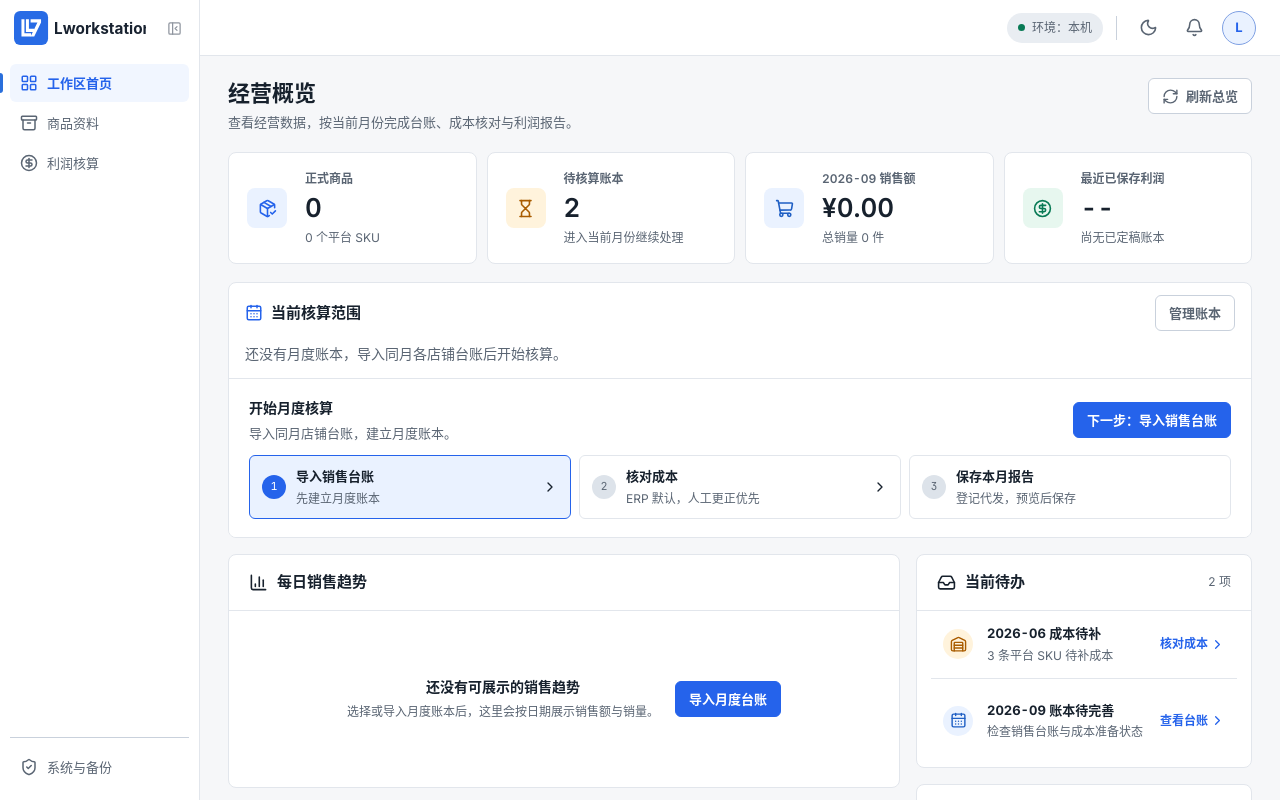
Test: a cost task targets the month that needs costs rather than the latest draft
Check: the element with class "tasks-panel" shows "2026-06 成本待补", box left=987, top=625, right=1101, bottom=641
Click the button with aria-label "2026-06 成本待补：核对成本".
click(1190, 644)  # box left=1156, top=630, right=1225, bottom=658
(page scrolled)
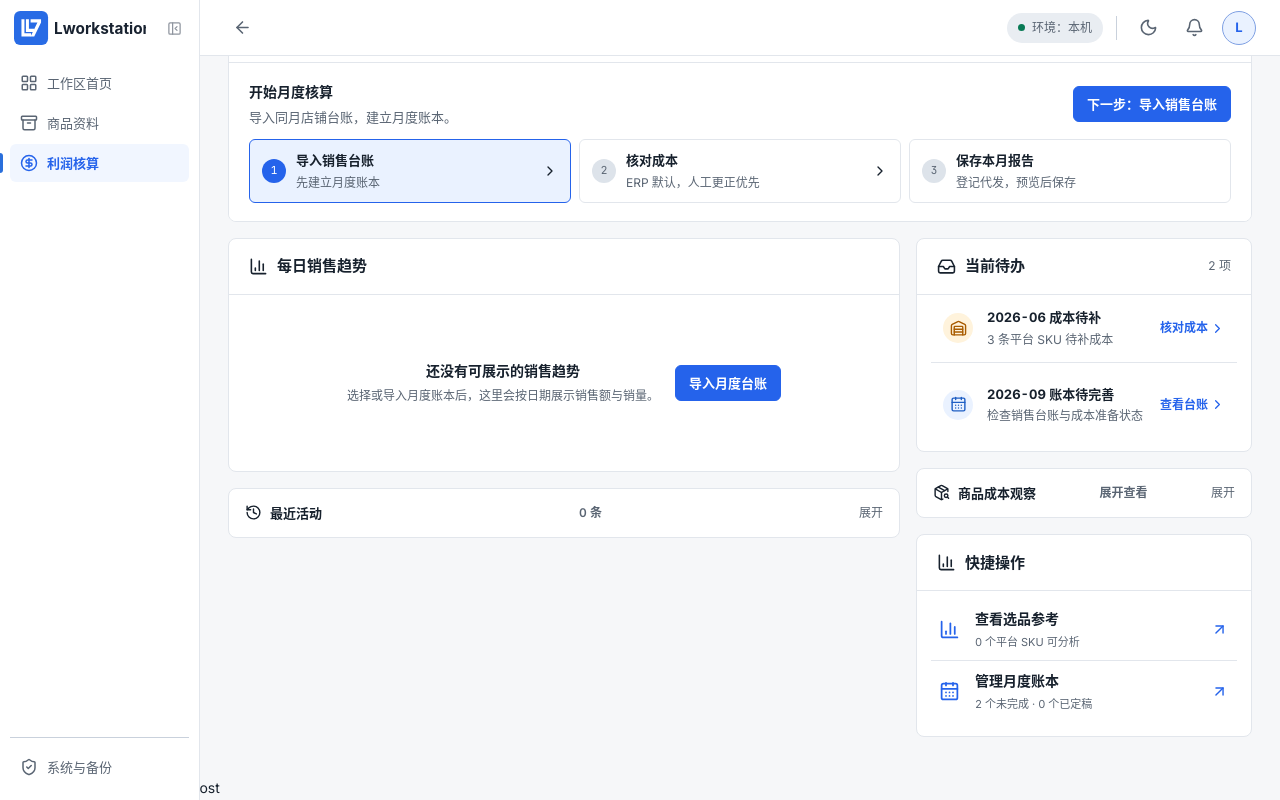
Check: the text "/cost-matching?ledger=old-cost" is shown, box left=0, top=779, right=220, bottom=796
